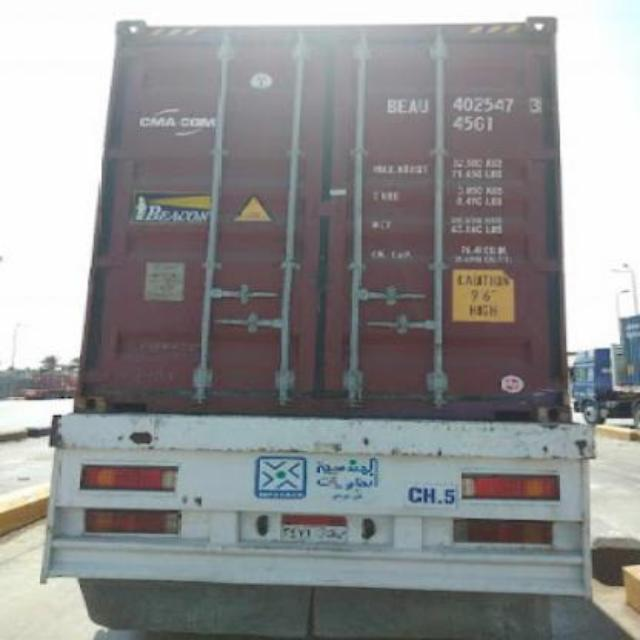0: (462, 91, 472, 112)
2: (472, 88, 484, 114)
3: (526, 94, 544, 115)
4: (450, 90, 462, 112), (494, 90, 504, 114)
5: (482, 86, 494, 118)
7: (504, 88, 514, 116)
A: (408, 94, 418, 116)
B: (386, 93, 398, 113)
E: (398, 94, 410, 114)
U: (416, 94, 429, 116)
